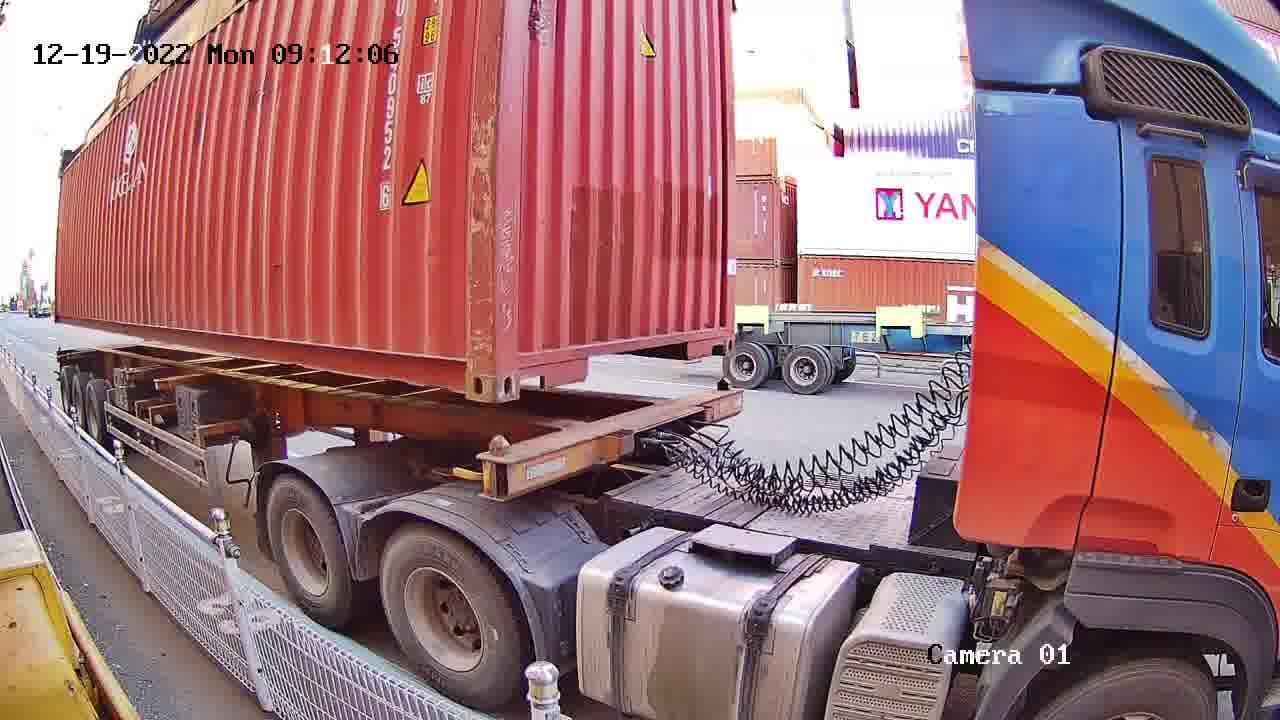Chassis: (480, 386, 741, 502)
Cone: (479, 434, 512, 503), (714, 376, 736, 417)
Hole_L: (497, 327, 548, 404)
Hole_R: (440, 332, 496, 405), (705, 310, 736, 356)
Tire: (383, 527, 522, 708), (267, 482, 348, 621)
